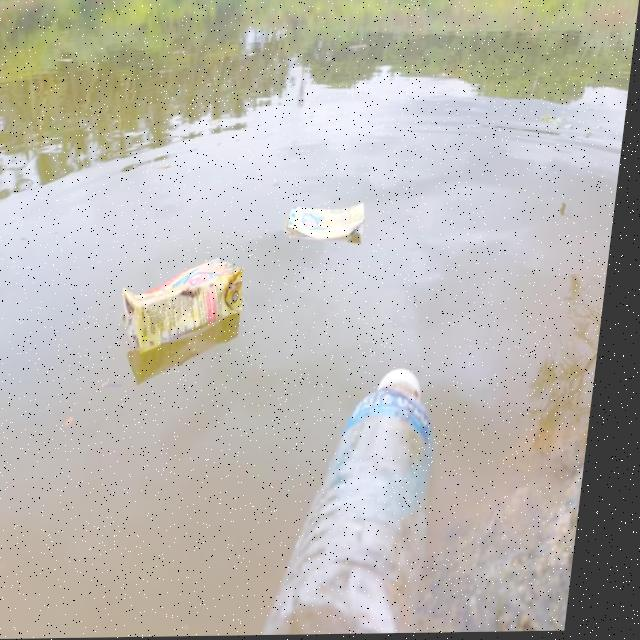paper: (105, 239, 263, 364), (283, 189, 413, 260)
waterbottle: (265, 351, 464, 636)
